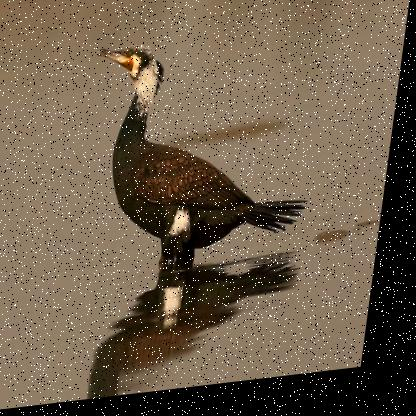Burung: (73, 24, 331, 299)
